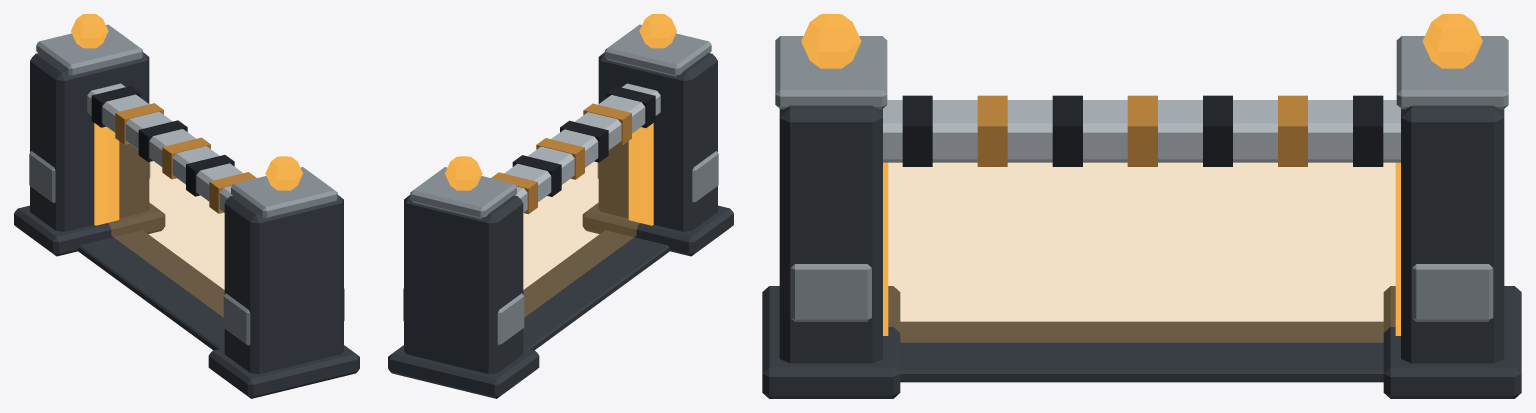
File: exo-gate.glb
The picture shows the model from 3 angles, left to right: view 1: azimuth 30°, elevation 25°; view 2: azimuth 150°, elevation 25°; view 3: azimuth 270°, elevation 25°; orthographic projection. The views are drawn at different scales.
Visible parts, largest first — view 1: body, field; view 2: body, field; view 3: body, field.
Boxes of the visible parts, left/top/right/bottom form: body: left=14, top=14, right=359, bottom=398; field: left=108, top=128, right=224, bottom=316; body: left=388, top=14, right=733, bottom=398; field: left=523, top=128, right=639, bottom=316; body: left=762, top=14, right=1521, bottom=398; field: left=888, top=163, right=1395, bottom=342.
Bounding box in the file's own units: 2.4 × 4.4 × 8.8.
